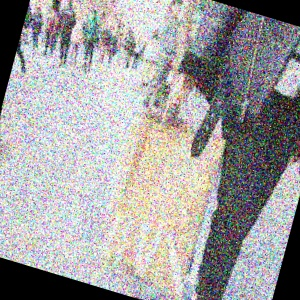zara: (113, 69, 300, 300)
